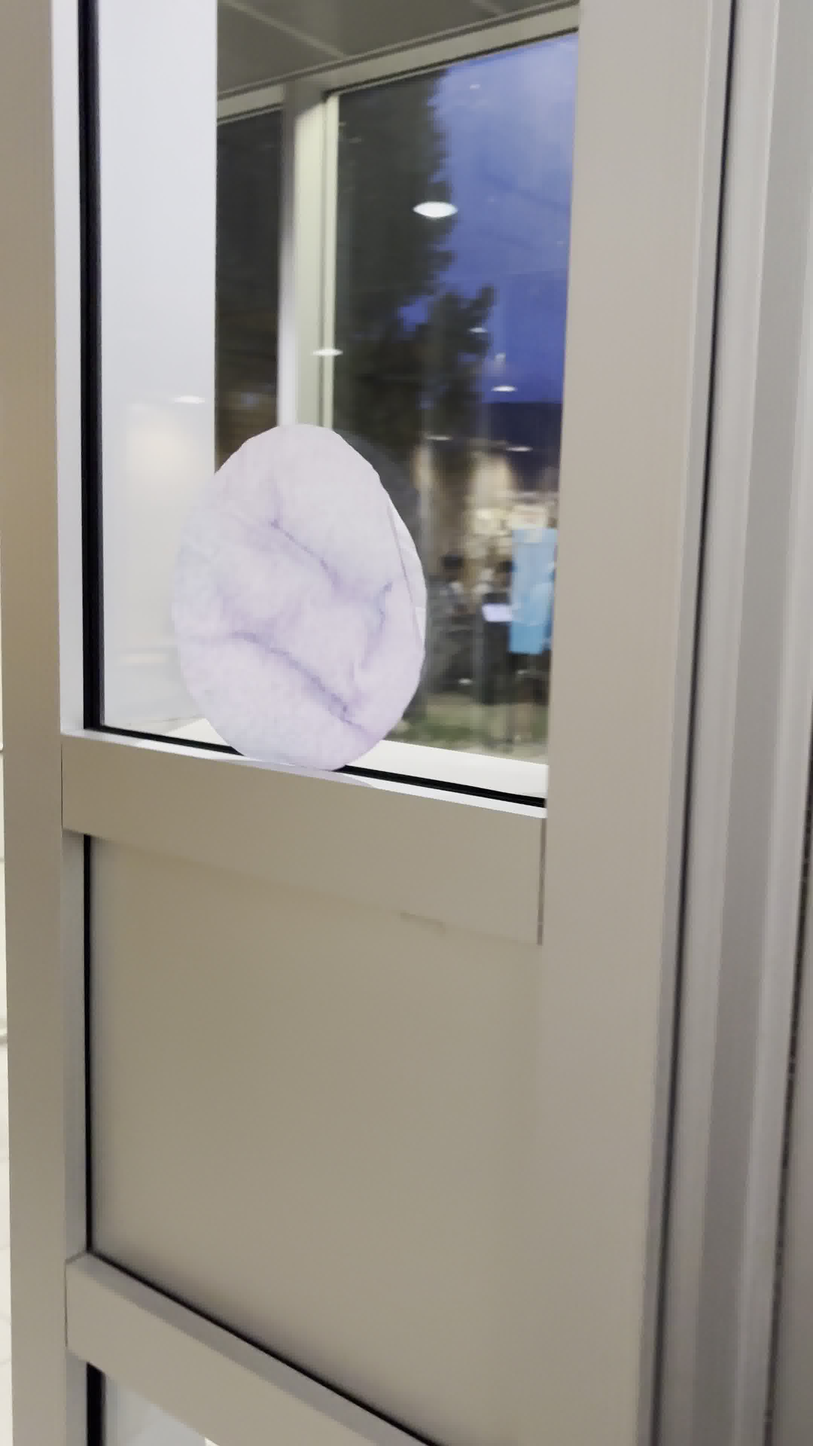Target: (169, 422, 431, 773)
